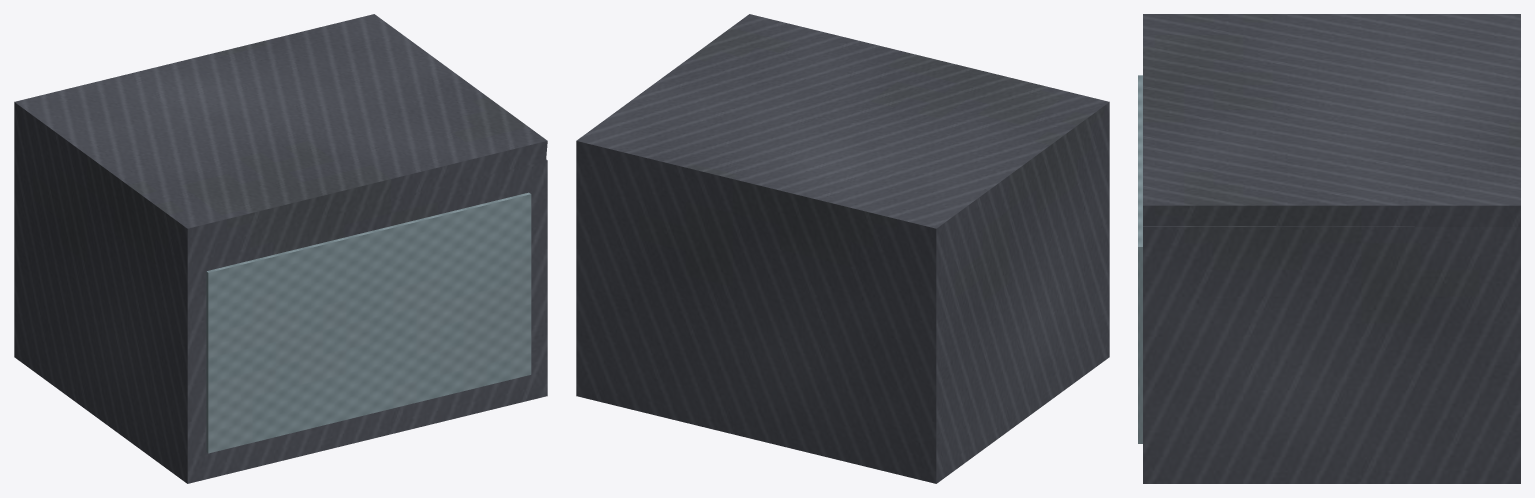
Rendered from monitor_v4.glb.
3 views of the same model, side by side, from view 1: azimuth 30°, elevation 25°; view 2: azimuth 150°, elevation 25°; view 3: azimuth 270°, elevation 25° (orthographic). The views are drawn at different scales.
Parts seen in each view (by area): view 1: Variant_monitor_4; view 2: Variant_monitor_4; view 3: Variant_monitor_4.
Boxes of the visible parts, x1,y1,x2,y2 form: Variant_monitor_4: (14, 14, 547, 483); Variant_monitor_4: (576, 14, 1109, 483); Variant_monitor_4: (1138, 14, 1520, 483).
Bounding box in the file's own units: 0.48 × 0.325 × 0.405.
Materials: 2 (2 with a texture image).
